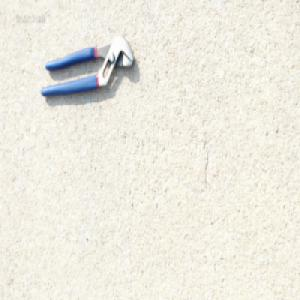Pliers: (39, 35, 134, 99)
